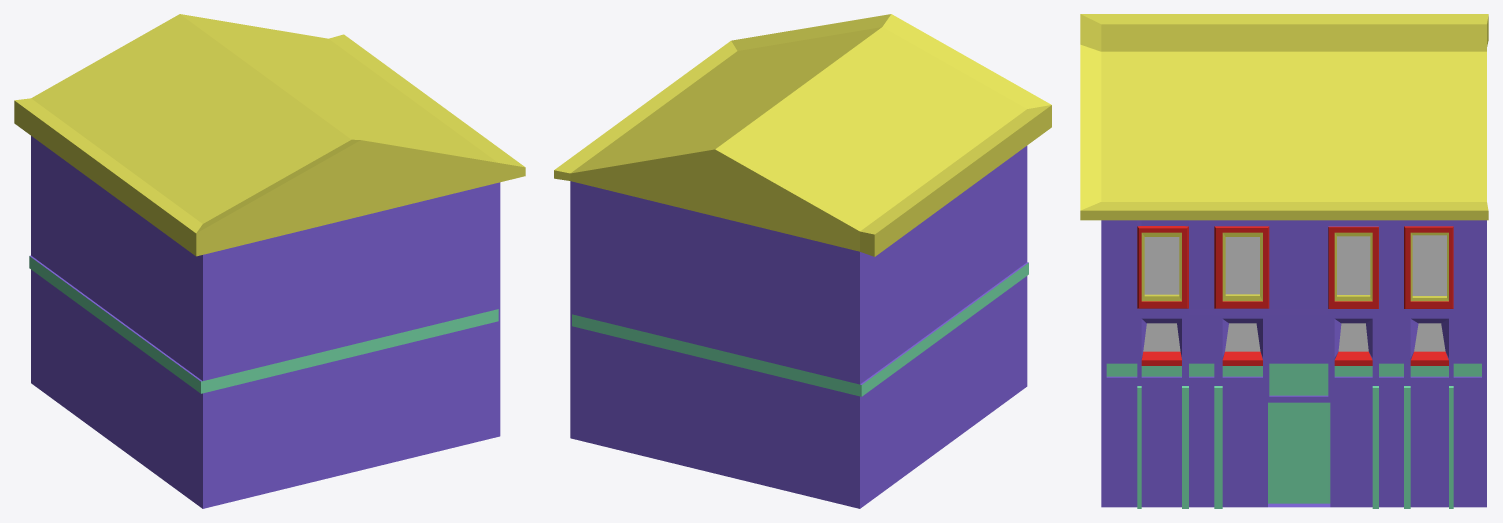
Rendered from FBX_UC_mBuilding_2.fbx.
3 views of the same model, side by side, from view 1: azimuth 30°, elevation 25°; view 2: azimuth 150°, elevation 25°; view 3: azimuth 270°, elevation 25° (orthographic). The views are drawn at different scales.
Visible parts, largest first — view 1: FBX_UC_mBuilding_2; view 2: FBX_UC_mBuilding_2; view 3: FBX_UC_mBuilding_2.
Part boxes in pixels (<box>): FBX_UC_mBuilding_2: <box>14,14,525,508</box>; FBX_UC_mBuilding_2: <box>554,14,1051,508</box>; FBX_UC_mBuilding_2: <box>1080,14,1488,508</box>.
Size of the model in its own units: 1145 by 1127 by 1095.
